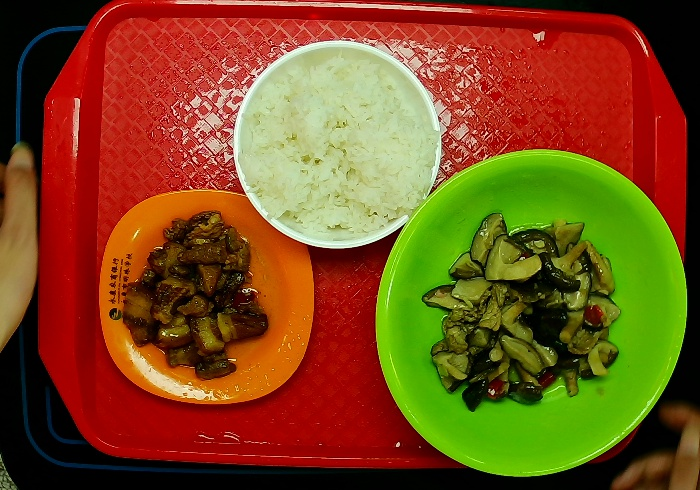YKMZ-Fan_Wan: (231, 31, 450, 259)
YKMZ-Ju_Se_Fang_Die: (79, 177, 322, 427)
YKMZ-Lv_Se_Tang_Wan: (367, 141, 697, 490)
